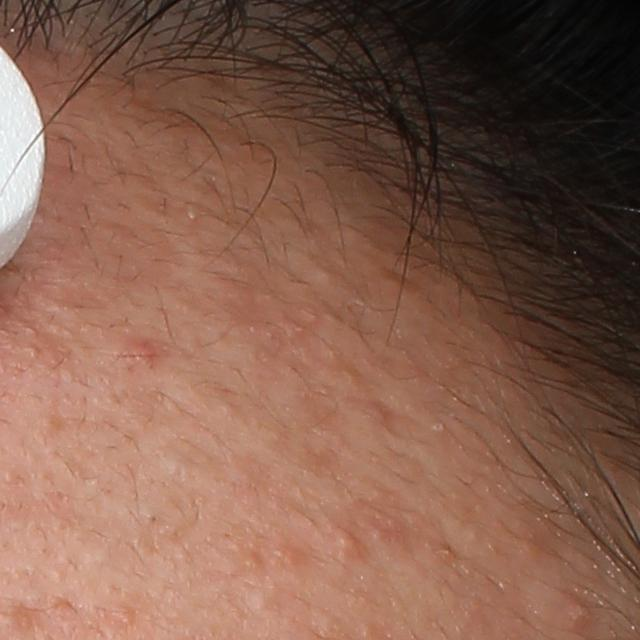papule: (123, 327, 156, 375)
